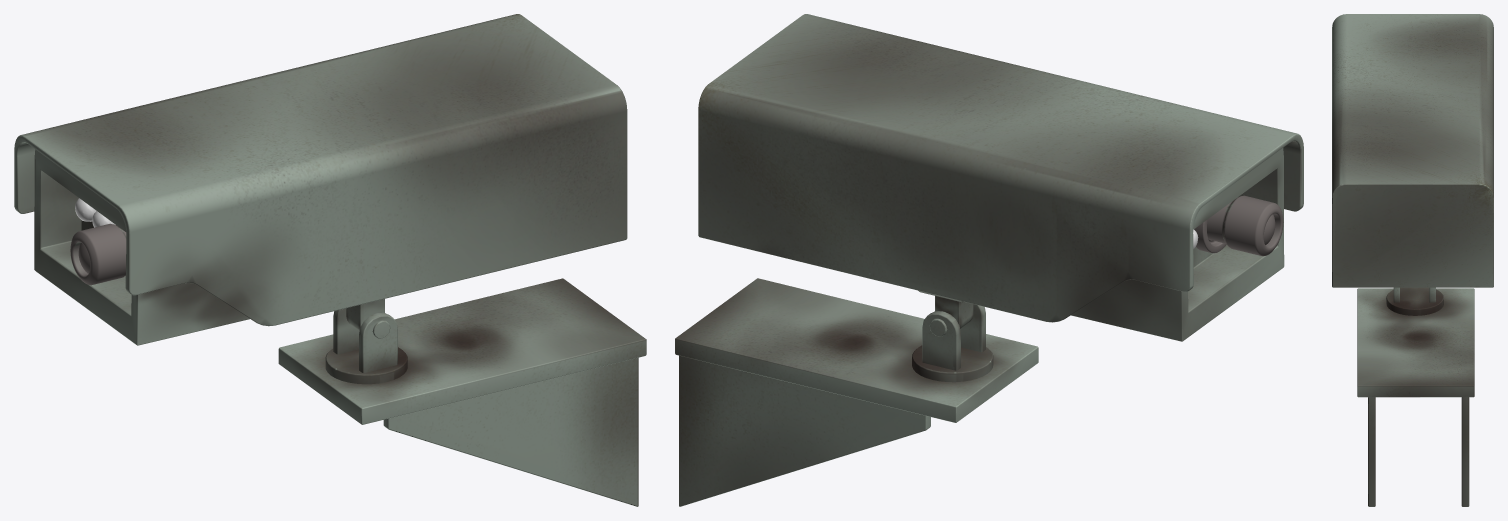
The model's file is securtiycam.fbx.
3 views of the same model, side by side, from view 1: azimuth 30°, elevation 25°; view 2: azimuth 150°, elevation 25°; view 3: azimuth 270°, elevation 25° (orthographic). The views are drawn at different scales.
Visible parts, largest first — view 1: Cube, Cube.005, Cube.004; view 2: Cube, Cube.005, Cube.004; view 3: Cube, Cube.005, Cube.004.
Boxes of the visible parts, x1,y1,x2,y2 form: Cube: (14,14,627,345); Cube.005: (278,278,646,506); Cube.004: (325,308,407,384); Cube: (698,14,1303,341); Cube.005: (675,278,1038,506); Cube.004: (912,304,993,382); Cube: (1332,14,1493,287); Cube.005: (1357,288,1474,506); Cube.004: (1386,287,1443,315).
Size of the model in its own units: 47.64 by 37.09 by 17.52.
